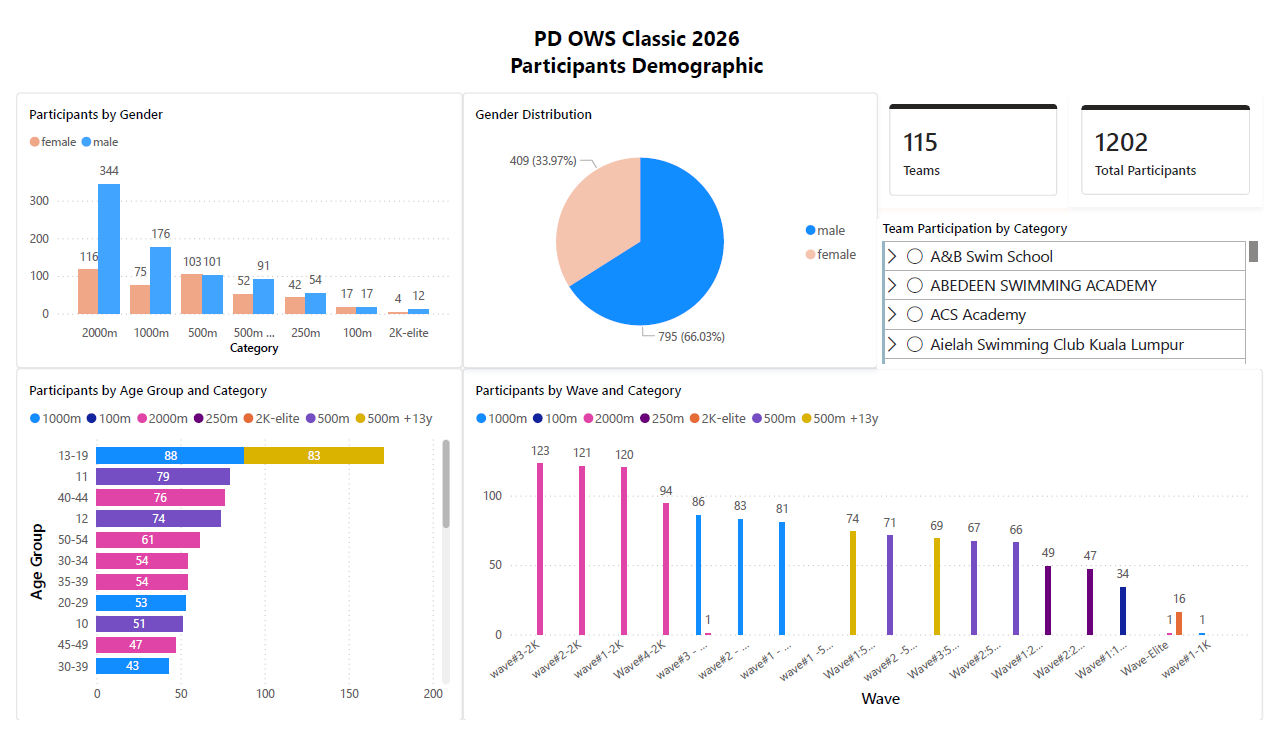

Layout of this report page (visuals, bound fields, positions):
{"tool":"powerbi","page":{"name":"Page 1","canvas":[1280,720],"ordinal":0},"visuals":[{"type":"textbox","box":[0,0,1279.2,76.1],"z":0},{"type":"textbox","box":[9,194,1270,150],"z":1000},{"type":"cardVisual","fields":{"Data":["Count(PD OWS Starting List 2026.Team)"]},"box":[884.4,75.6,196.7,118.9],"z":2000},{"type":"clusteredColumnChart","title":"Participants by Gender","fields":{"Category":["PD OWS Starting List 2026.Distance"],"Series":["PD OWS Starting List 2026.Gender"],"Y":["CountNonNull(PD OWS Starting List 2026.Age Group)"]},"box":[0,76.1,458.2,283.4],"z":3000},{"type":"barChart","title":"Participants by Age Group and Category","fields":{"Y":["Count(PD OWS Starting List 2026.Bib no)"],"Category":["PD OWS Starting List 2026.Age Group"],"Series":["PD OWS Starting List 2026.Category"]},"box":[0,359.5,458.2,361.1],"z":4000},{"type":"clusteredColumnChart","title":"Participants by Wave and Category","fields":{"Series":["PD OWS Starting List 2026.Category"],"Category":["PD OWS Starting List 2026.Wave"],"Y":["Count(PD OWS Starting List 2026.Bib no)"]},"box":[458.2,359.5,820.9,361.1],"z":5000},{"type":"pieChart","title":"Gender Distribution","fields":{"Category":["PD OWS Starting List 2026.Gender"],"Y":["CountNonNull(PD OWS Starting List 2026.Name)"]},"box":[458.2,76.1,425.9,283.4],"z":6000},{"type":"listSlicer","title":"Team Participation by Category","fields":{"Values":["PD OWS Starting List 2026.Team","PD OWS Starting List 2026.Category"]},"box":[884.1,205.6,395.1,153.8],"z":7000},{"type":"cardVisual","fields":{"Data":["Count(PD OWS Starting List 2026.Name)"]},"box":[1081.1,76.7,197.8,116.7],"z":8000}]}

Visuals, with their boxes in screenshot pixels (x1, y1, x2, y2), scaled from the page's 1280x720 canvas onto the 1282x736 screenshot:
textbox: x1=0, y1=0, x2=1281, y2=78
textbox: x1=9, y1=198, x2=1281, y2=352
cardVisual - Count(PD OWS Starting List 2026.Team): x1=886, y1=77, x2=1083, y2=199
"Participants by Gender" clusteredColumnChart: x1=0, y1=78, x2=459, y2=367
"Participants by Age Group and Category" barChart: x1=0, y1=367, x2=459, y2=735
"Participants by Wave and Category" clusteredColumnChart: x1=459, y1=367, x2=1281, y2=735
"Gender Distribution" pieChart: x1=459, y1=78, x2=885, y2=367
"Team Participation by Category" listSlicer: x1=885, y1=210, x2=1281, y2=367
cardVisual - Count(PD OWS Starting List 2026.Name): x1=1083, y1=78, x2=1281, y2=198
